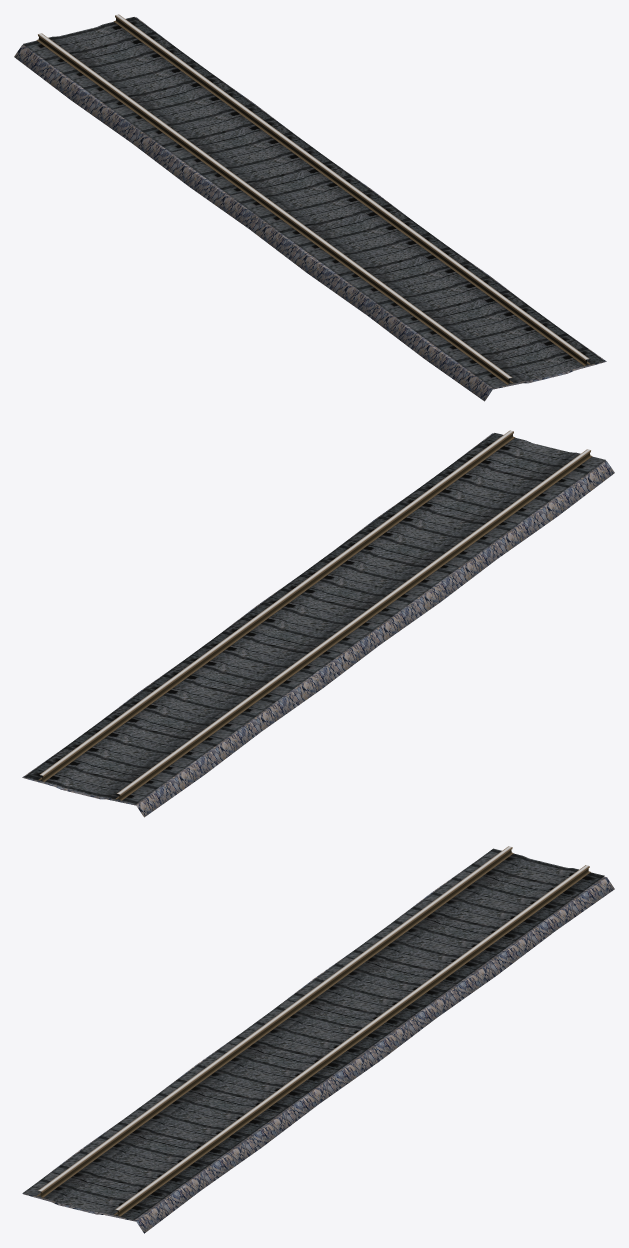
Rendered from 1RAIL_50_KYO.glb.
The picture shows the model from 3 angles, top to bottom: view 1: azimuth 30°, elevation 25°; view 2: azimuth 150°, elevation 25°; view 3: azimuth 330°, elevation 25°; orthographic projection.
Parts seen in each view (by area): view 1: obj6; view 2: obj6; view 3: obj6.
Part boxes in pixels (bbox=[...]): obj6: bbox=[14, 14, 606, 401]; obj6: bbox=[22, 430, 614, 817]; obj6: bbox=[22, 846, 614, 1233].
Bounding box in the file's own units: 8.09 × 1.01 × 49.99.
3 materials, 2 textured.
